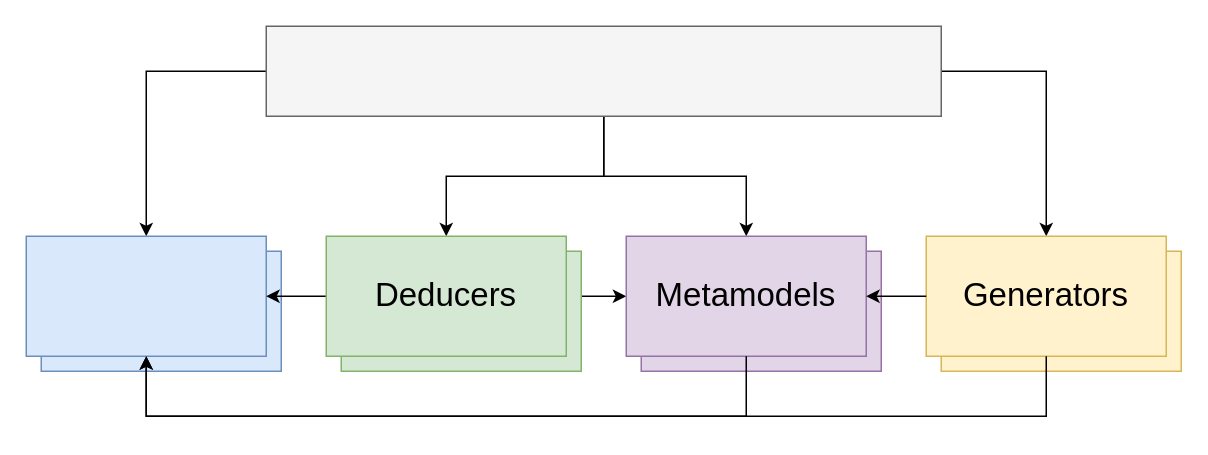
Image size: 1208x455. Some labels were removed from this diagram. The centre of each missing label's shape, as x and y in pixels:
"Abstractions" belongs at (145,295).
"Creator" belongs at (603,70).
